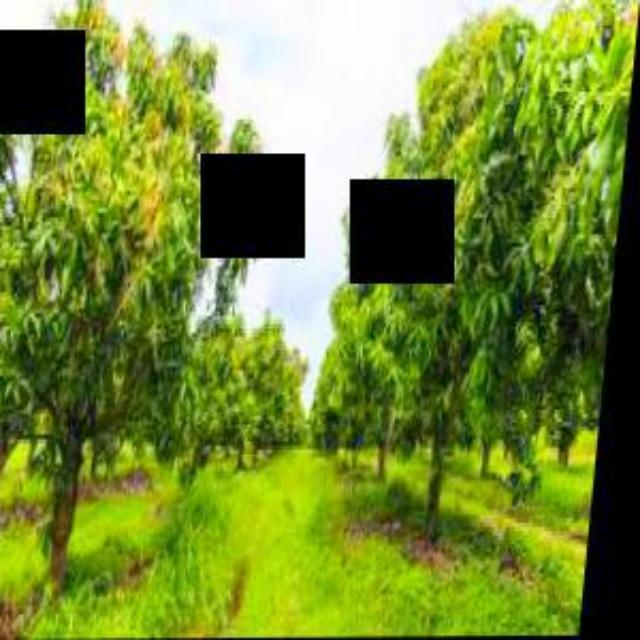tree: (314, 4, 636, 550), (0, 0, 292, 586)
